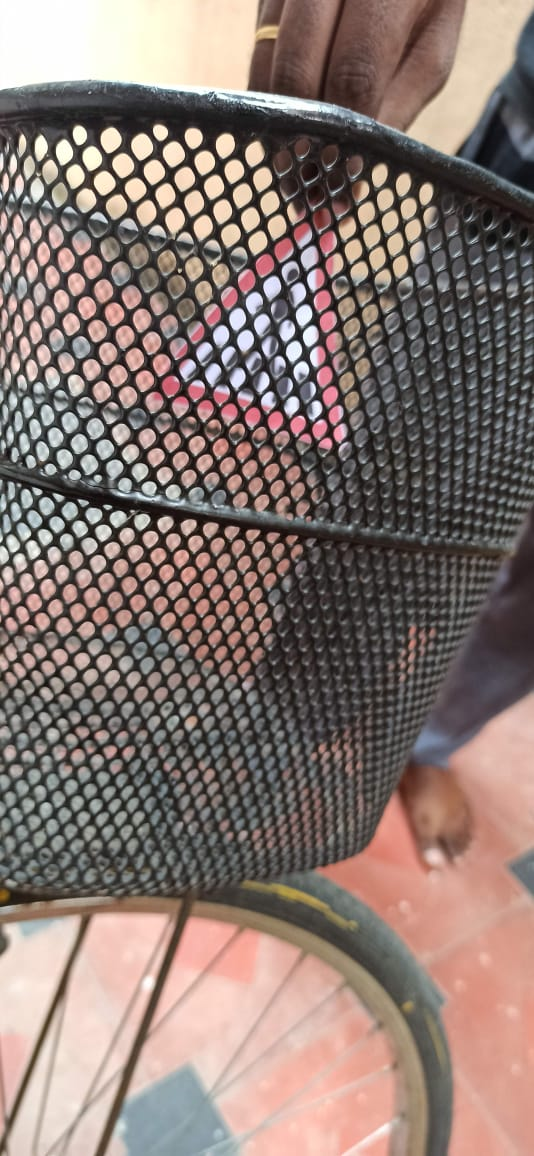PEDESTRIAN CROSSING: (160, 178, 365, 470)
